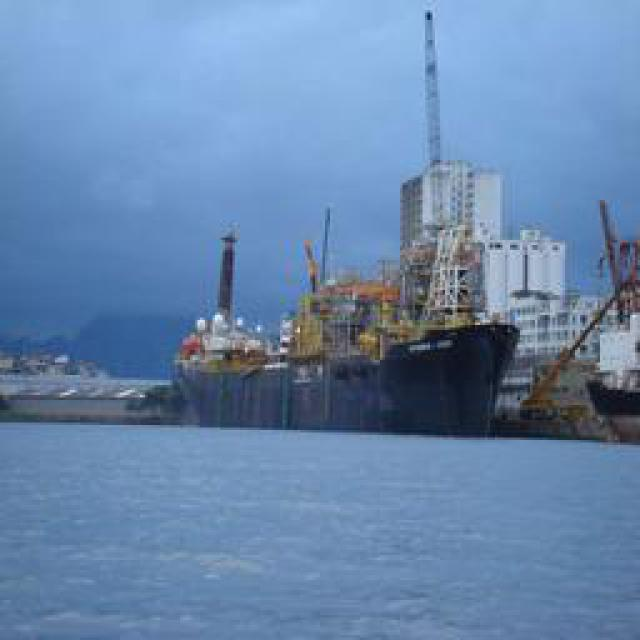Ship: (174, 222, 527, 444)
